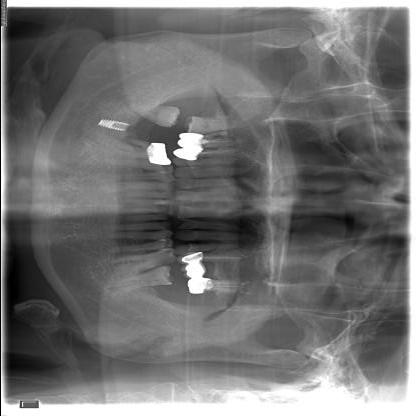Bicon: (91, 116, 138, 134)
